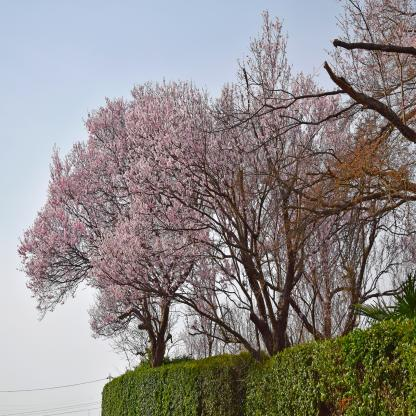Someiyoshino: (18, 4, 355, 344)
